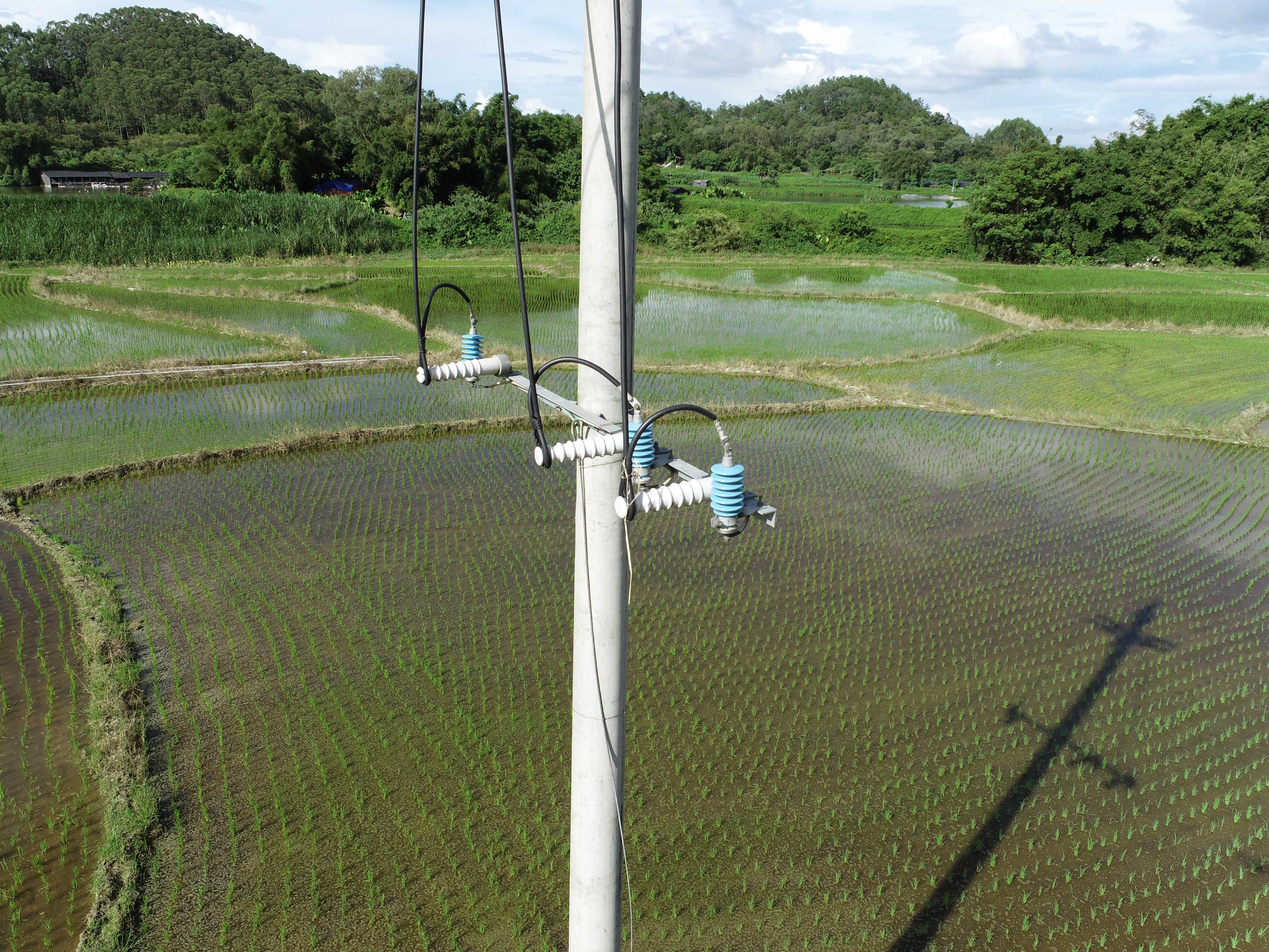异物: (620, 455, 642, 607)
